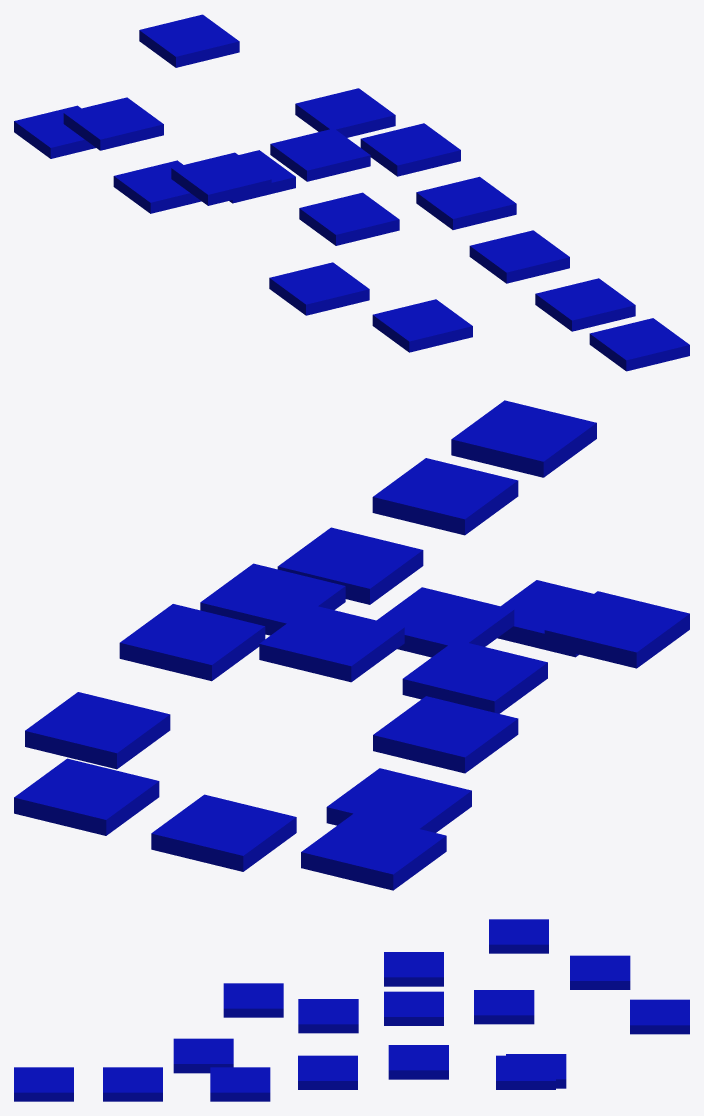
The model's file is juuump.fbx.
3 views of the same model, one above another, from view 1: azimuth 30°, elevation 25°; view 2: azimuth 150°, elevation 25°; view 3: azimuth 270°, elevation 25° (orthographic). The views are drawn at different scales.
Visible parts, largest first — view 1: 立方体_22, 立方体_19, 立方体_23, 立方体_26, 立方体_25, 立方体_24, 立方体_21, 立方体_18, 立方体_26_3, 立方体_26_4, 立方体_20, 立方体_28 (+4 smaller); view 2: 立方体_19, 立方体_26_3, 立方体_26_4, 立方体_26_2, 立方体_18, 立方体_29, 立方体_27_2, 立方体_24, 立方体_26, 立方体_28, 立方体_25, 立方体_20 (+4 smaller); view 3: 立方体_26, 立方体_28, 立方体_24, 立方体_23, 立方体_20, 立方体_27, 立方体_26_2, 立方体_26_3, 立方体_29, 立方体_26_4, 立方体_25, 立方体_21 (+4 smaller).
Part boxes in pixels (x1,y1,x2,y2): 立方体_22: (372,299,472,352); 立方体_19: (535,278,635,331); 立方体_23: (299,192,399,245); 立方体_26: (139,14,239,67); 立方体_25: (171,152,271,205); 立方体_24: (269,262,369,315); 立方体_21: (416,176,516,229); 立方体_18: (589,318,689,371); 立方体_26_3: (63,97,163,150); 立方体_26_4: (270,128,370,181); 立方体_20: (469,230,569,283); 立方体_28: (360,123,460,176); 立方体_19: (372,458,518,535); 立方体_26_3: (373,696,518,773); 立方体_26_4: (259,605,404,682); 立方体_26_2: (301,813,446,890); 立方体_18: (451,400,596,477); 立方体_29: (25,692,170,769); 立方体_27_2: (151,794,296,871); 立方体_24: (544,591,689,668); 立方体_26: (14,758,159,835); 立方体_28: (119,604,265,681); 立方体_25: (402,640,547,713); 立方体_20: (277,527,423,604); 立方体_26: (630,999,689,1034); 立方体_28: (388,1045,448,1079); 立方体_24: (223,983,283,1017); 立方体_23: (298,999,358,1033); 立方体_20: (210,1067,270,1101); 立方体_27: (474,990,534,1024); 立方体_26_2: (570,955,630,989); 立方体_26_3: (489,919,548,953); 立方体_29: (496,1055,555,1089); 立方体_26_4: (384,991,443,1025); 立方体_25: (384,952,443,986); 立方体_21: (298,1055,357,1089).
Bounding box in the file's own units: 28.25 × 9.57 × 67.45.
